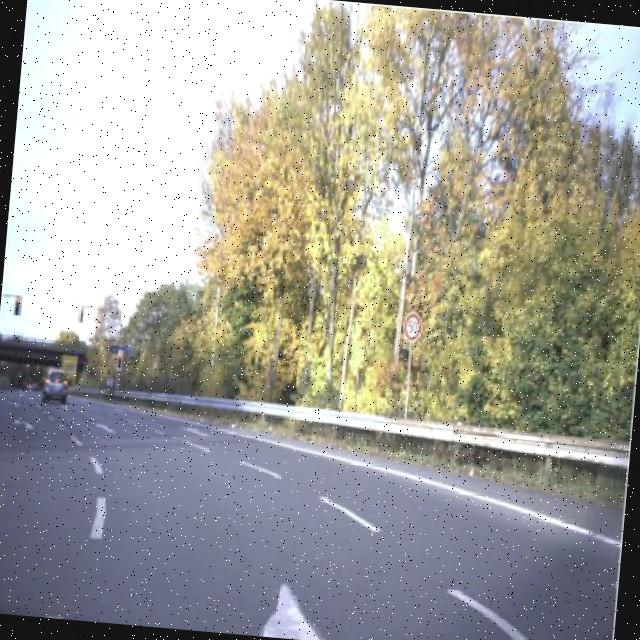Ograniczenie predkosci do 50: (402, 312, 423, 341)
